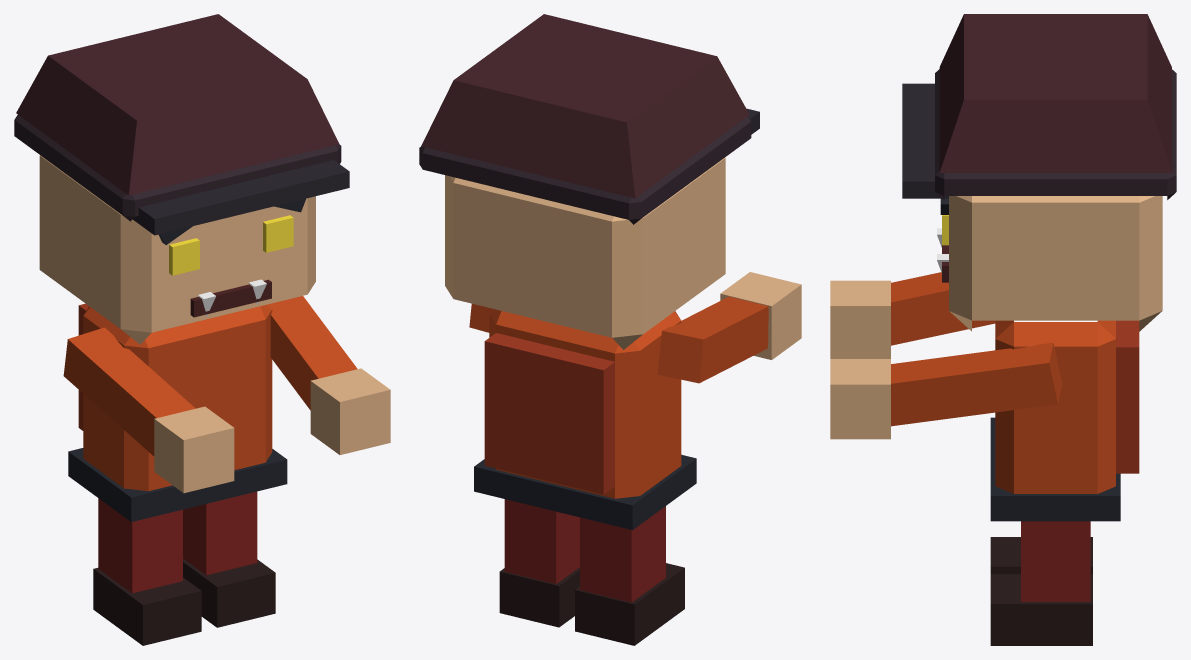
The model's file is grunt_r3.glb.
The picture shows the model from 3 angles, left to right: view 1: azimuth 30°, elevation 25°; view 2: azimuth 150°, elevation 25°; view 3: azimuth 270°, elevation 25°; orthographic projection. The views are drawn at different scales.
Parts seen in each view (by area): view 1: grunt_r3_mesh; view 2: grunt_r3_mesh; view 3: grunt_r3_mesh.
Boxes of the visible parts, left/top/right/bottom form: grunt_r3_mesh: left=14, top=14, right=390, bottom=645; grunt_r3_mesh: left=419, top=14, right=801, bottom=645; grunt_r3_mesh: left=830, top=14, right=1176, bottom=645.
Size of the model in its own units: 0.6586 by 1.5 by 0.8466.
1 material, 1 textured.
